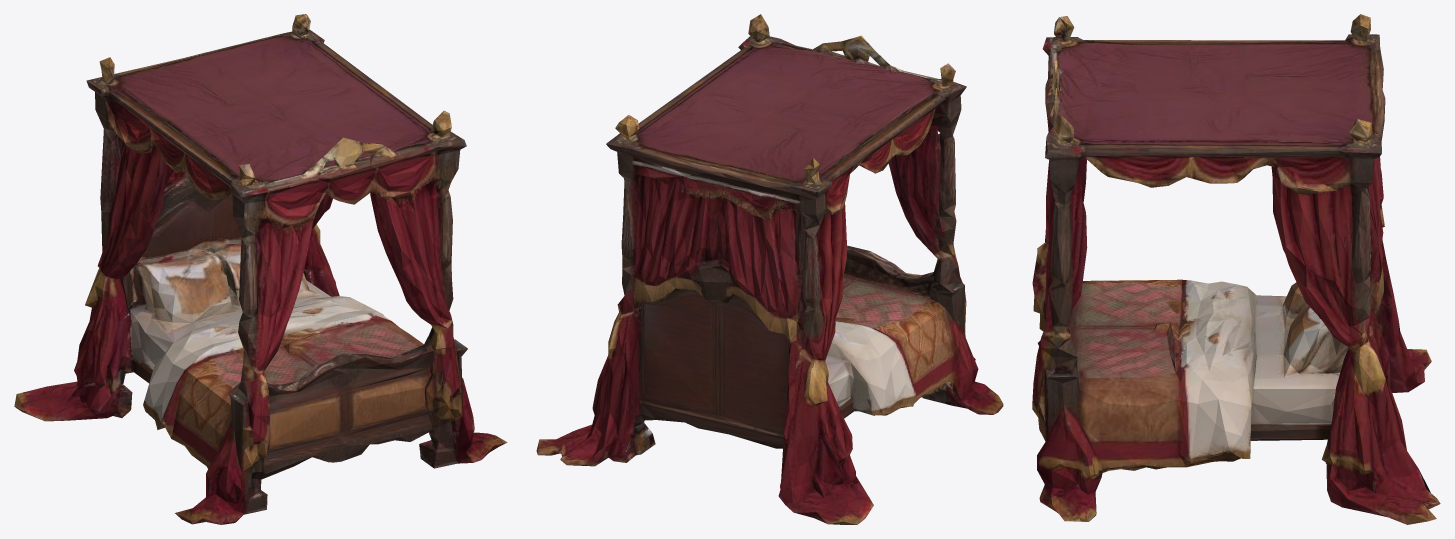
File: bed_canopy_red_lod0.glb
3 renders of one model, left to right at view 1: azimuth 30°, elevation 25°; view 2: azimuth 150°, elevation 25°; view 3: azimuth 270°, elevation 25°, orthographic. The views are drawn at different scales.
Visible parts, largest first — view 1: bed_canopy_red_lod0; view 2: bed_canopy_red_lod0; view 3: bed_canopy_red_lod0.
Part boxes in pixels (bbox=[...]): bed_canopy_red_lod0: bbox=[14, 14, 507, 524]; bed_canopy_red_lod0: bbox=[536, 14, 1003, 524]; bed_canopy_red_lod0: bbox=[1032, 14, 1440, 524].
Size of the model in its own units: 2.18 by 2.21 by 2.16.
1 material, 1 textured.
